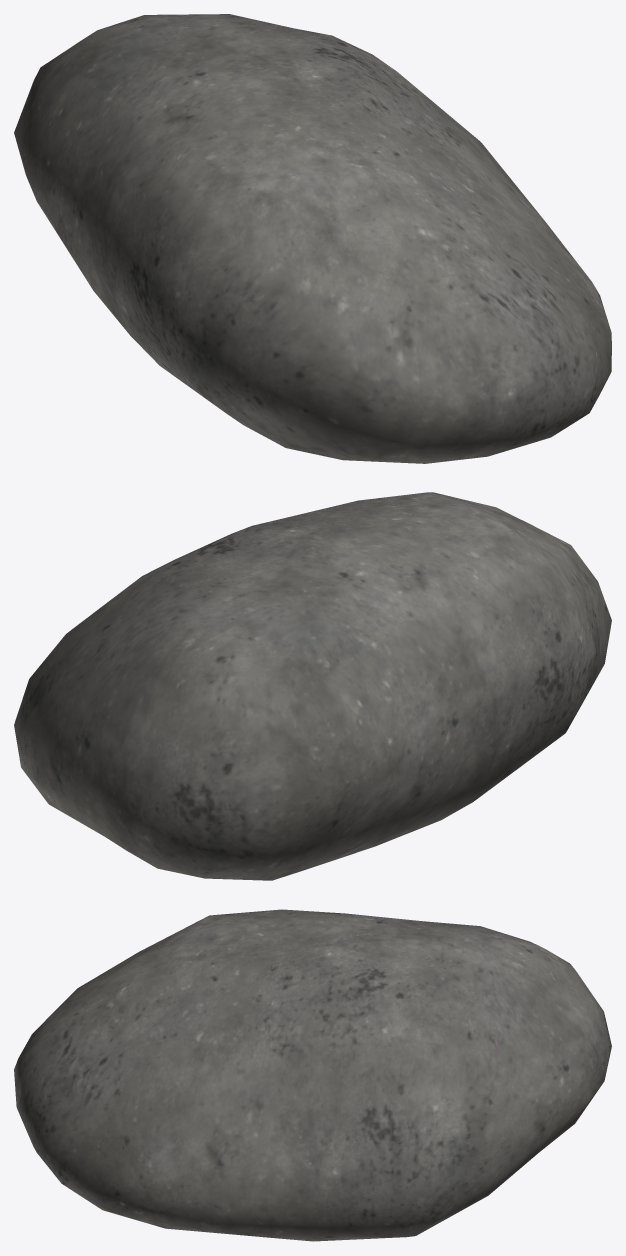
The model's file is kamen.fbx.
3 views of the same model, one above another, from view 1: azimuth 30°, elevation 25°; view 2: azimuth 150°, elevation 25°; view 3: azimuth 270°, elevation 25° (orthographic). The views are drawn at different scales.
Visible parts, largest first — view 1: kamen; view 2: kamen; view 3: kamen.
Part boxes in pixels (box(x1,y1,x2,y2)): kamen: box(14, 14, 611, 463); kamen: box(14, 492, 611, 880); kamen: box(14, 909, 611, 1241).
Bounding box in the file's own units: 67.94 × 46.1 × 101.
